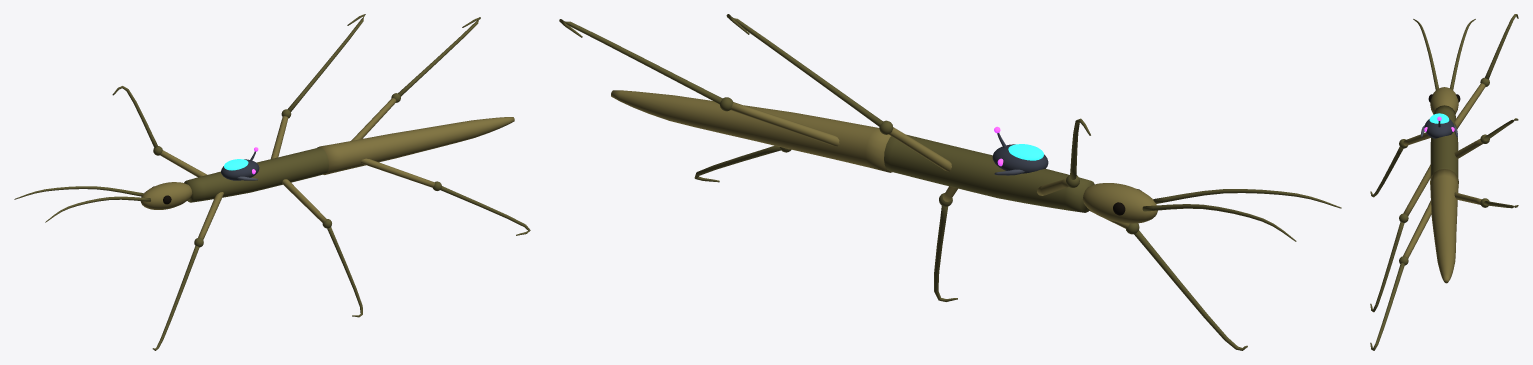
File: controlled_stick_insect.glb
3 views of the same model, side by side, from view 1: azimuth 30°, elevation 25°; view 2: azimuth 150°, elevation 25°; view 3: azimuth 270°, elevation 25° (orthographic). The views are drawn at different scales.
Parts seen in each view (by area): view 1: Abdomen, Thorax, Head, Tibia.004, Femur.002, Tibia.005, Tibia, Tibia.002, NaturalAntenna.001, ControlShell, Tibia.001, Femur.001; view 2: Abdomen, Thorax, Head, Tibia.004, Tibia.005, Femur.005, Tibia, NaturalAntenna, ControlShell, NaturalAntenna.001, Femur.004, Tibia.002 (+1 smaller); view 3: Abdomen, Thorax, Head, Tibia.002, Tibia.001, Femur.002, ControlShell, Femur.003, Femur.001, Tibia.003, NaturalAntenna, NaturalAntenna.001 (+7 smaller).
Boxes of the visible parts, box(x1,y1,x2,y2) form: Abdomen: box(317, 117, 514, 174); Thorax: box(184, 147, 328, 202); Head: box(140, 182, 192, 209); Tibia.004: box(287, 14, 365, 111); Femur.002: box(360, 158, 434, 187); Tibia.005: box(398, 17, 480, 96); Tibia: box(152, 245, 199, 350); Tibia.002: box(440, 186, 530, 235); NaturalAntenna.001: box(14, 186, 143, 199); ControlShell: box(221, 159, 259, 180); Tibia.001: box(327, 227, 362, 317); Femur.001: box(282, 179, 326, 222); Abdomen: box(611, 90, 892, 172); Thorax: box(884, 134, 1094, 212); Head: box(1082, 183, 1157, 223); Tibia.004: box(726, 14, 882, 126); Tibia.005: box(559, 19, 722, 103); Femur.005: box(730, 102, 839, 146); Tibia: box(1134, 230, 1247, 350); NaturalAntenna: box(1153, 189, 1341, 208); ControlShell: box(992, 144, 1048, 173); NaturalAntenna.001: box(1142, 204, 1296, 241); Femur.004: box(889, 127, 951, 171); Tibia.002: box(694, 145, 780, 182); Abdomen: box(1430, 169, 1458, 283); Thorax: box(1430, 105, 1458, 177); Head: box(1430, 87, 1458, 113); Tibia.002: box(1370, 263, 1404, 350); Tibia.001: box(1370, 222, 1404, 312); Femur.002: box(1403, 200, 1431, 258); ControlShell: box(1424, 119, 1454, 138); Femur.003: box(1454, 83, 1485, 128); Femur.001: box(1403, 164, 1430, 215); Tibia.003: box(1485, 14, 1518, 79); NaturalAntenna: box(1413, 19, 1438, 90); NaturalAntenna.001: box(1450, 19, 1475, 90).
Bounding box in the file's own units: 2.88 × 1.31 × 0.7657.
